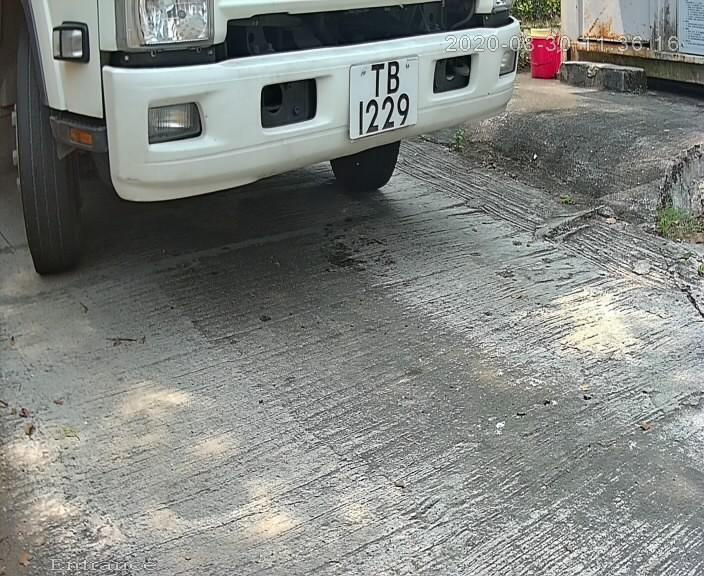Car: (7, 1, 541, 281)
License Plate: (315, 39, 431, 157)
